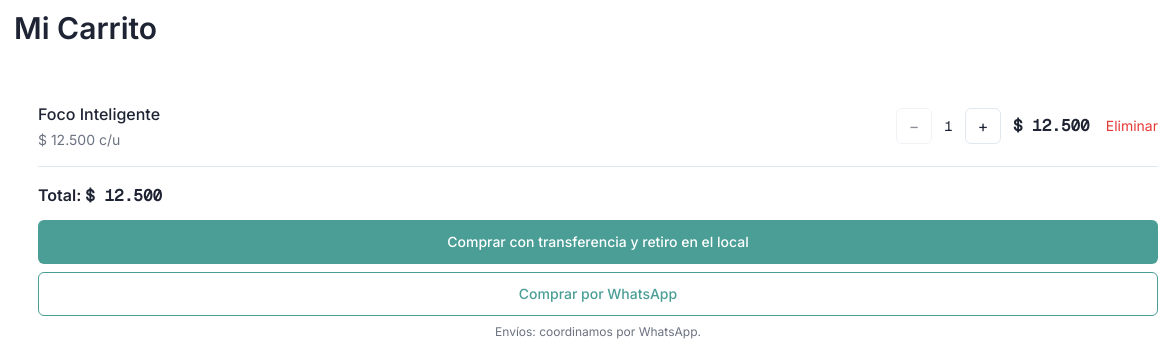
Test: CartPage › should keep adding units freely while under the ERP stock
Click the button named "aumentar cantidad".
click(983, 126)  # box [965,108,1001,144]
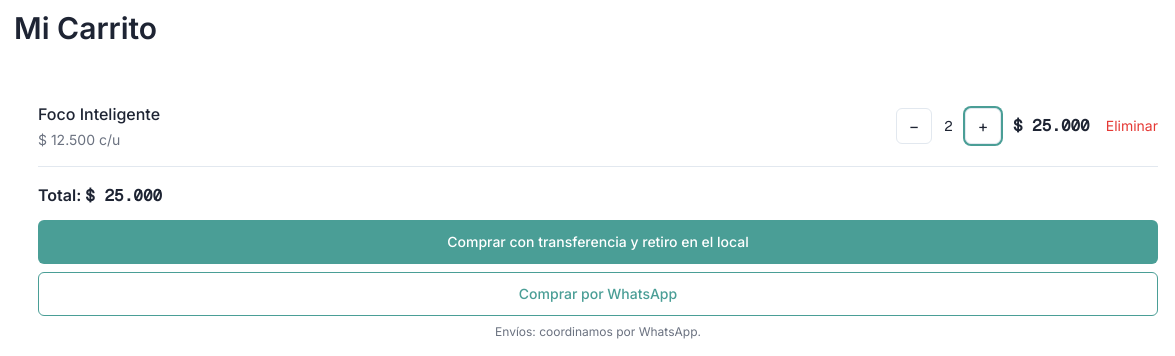
Expected: the text named "Cantidad" reads "2", [944,117,953,135]
